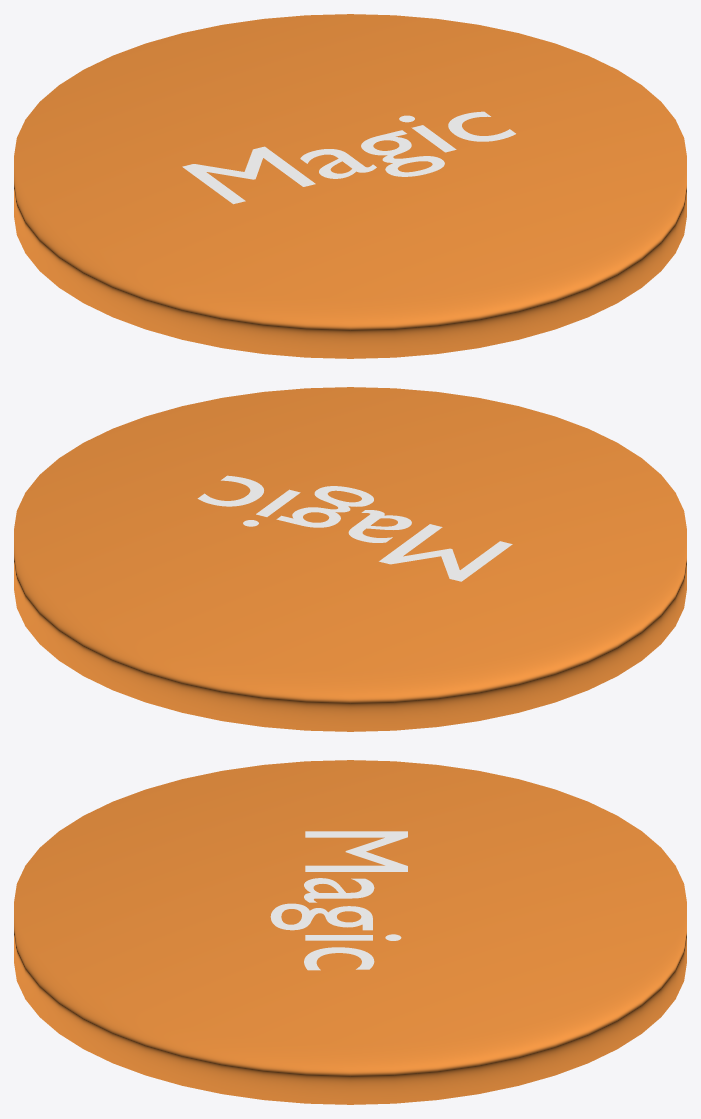
File: magic.glb
3 renders of one model, top to bottom at view 1: azimuth 30°, elevation 25°; view 2: azimuth 150°, elevation 25°; view 3: azimuth 270°, elevation 25°, orthographic.
Visible parts, largest first — view 1: Cylinder, Text; view 2: Cylinder, Text; view 3: Cylinder, Text.
Boxes of the visible parts, x1=… form: Cylinder: x1=14, y1=14, x2=686, y2=358; Text: x1=182, y1=111, x2=515, y2=204; Cylinder: x1=14, y1=387, x2=686, y2=731; Text: x1=197, y1=475, x2=512, y2=581; Cylinder: x1=14, y1=760, x2=686, y2=1104; Text: x1=270, y1=831, x2=407, y2=970.
Bounding box in the file's own units: 2 × 0.2068 × 2.
